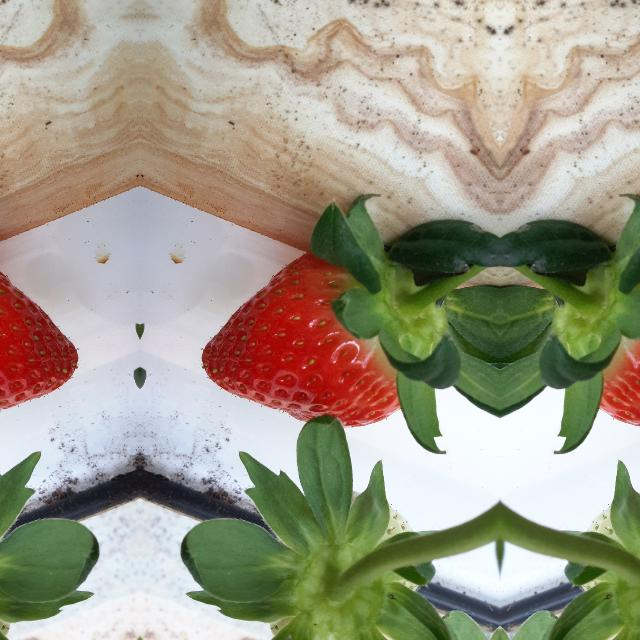Health_100: (201, 250, 403, 428), (0, 250, 79, 427), (597, 250, 640, 427)
